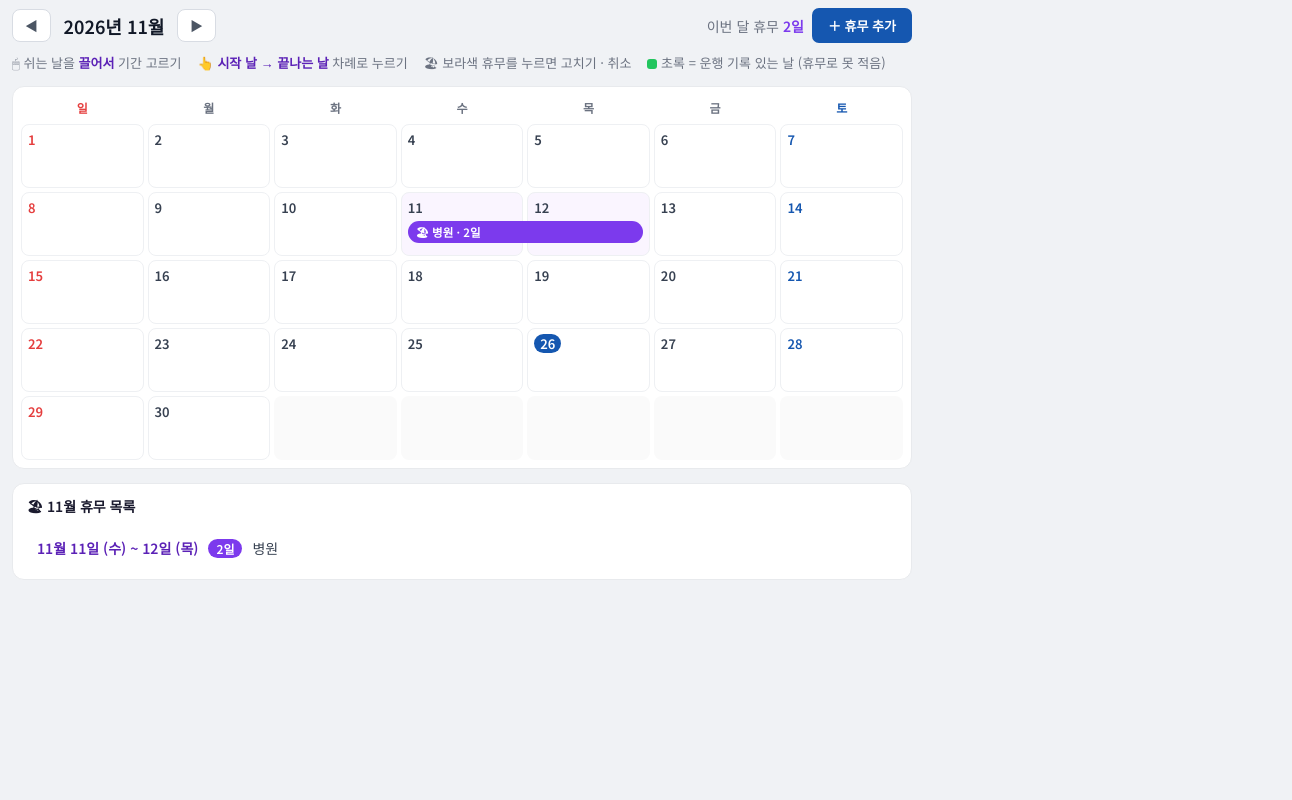
it: 휴무 띠를 누르면 기간 전체 고치기: 줄이면 빠진 날 지움, 취소는 기간 전체
The image size is (1292, 800).
Press Enter in the button "12", box [527,192,650,256]
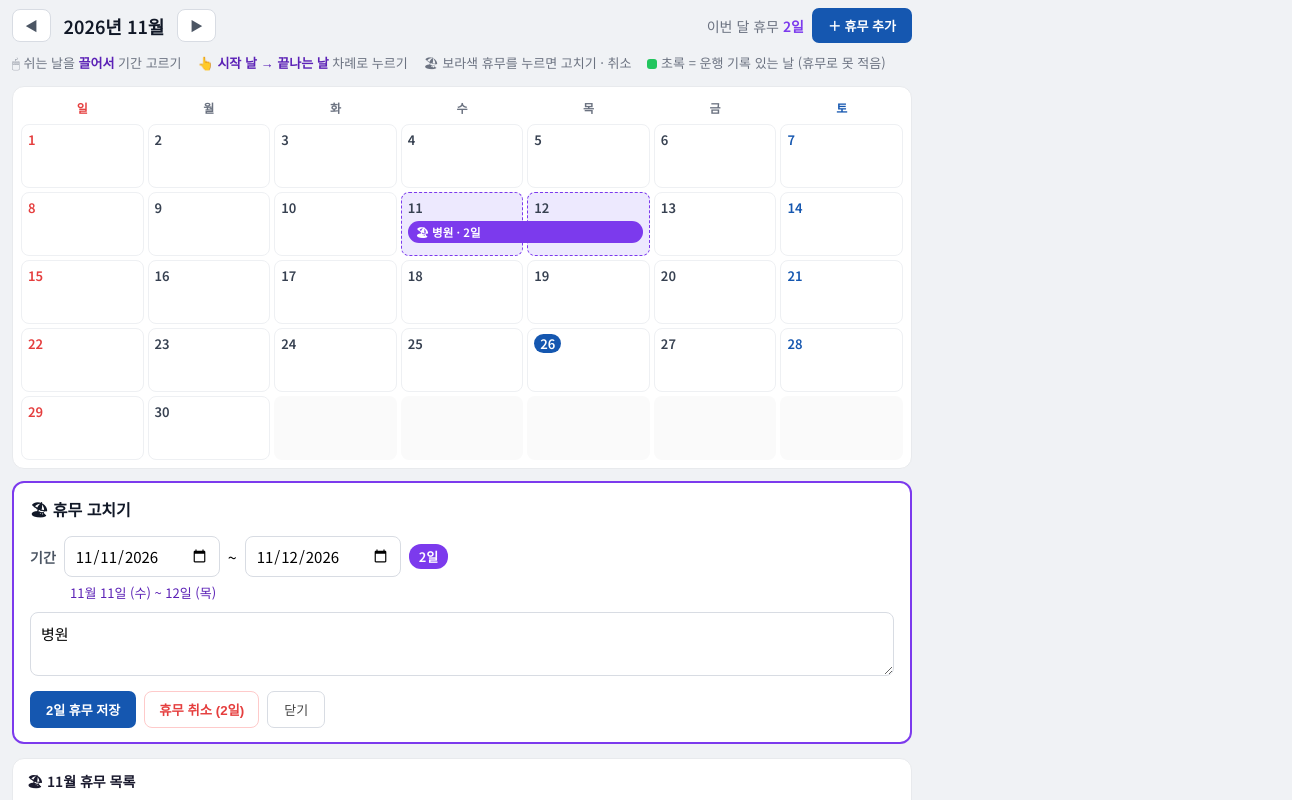
Expected: the text "🏖 휴무 고치기" is shown, [30,497,131,521]
Expected: the date field named "시작 날" holds "2026-11-11"
Type "2026-11-12" into the date field named "시작 날".
click(142, 556); type("2026-11-12")  # box [64,536,220,577]
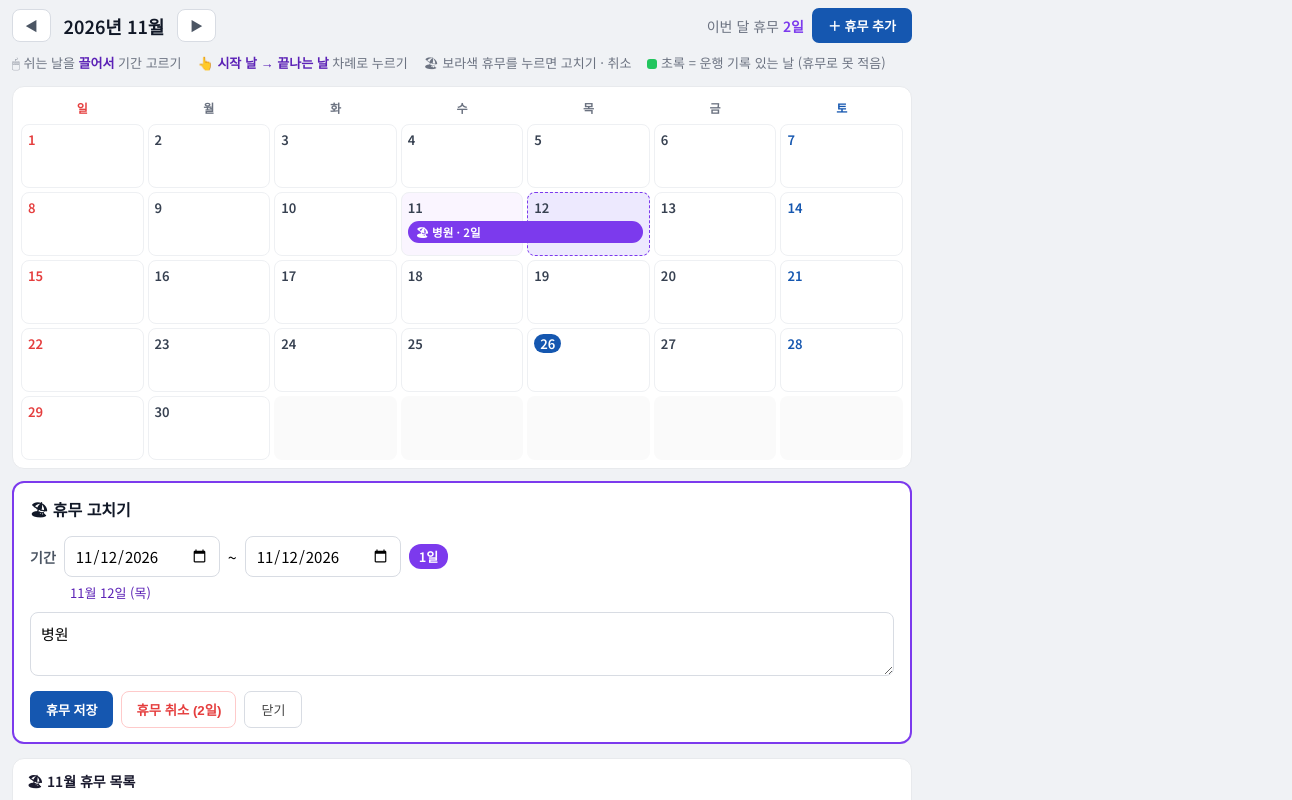
Click the button "휴무 저장".
click(72, 710)  # box [30,691,114,728]
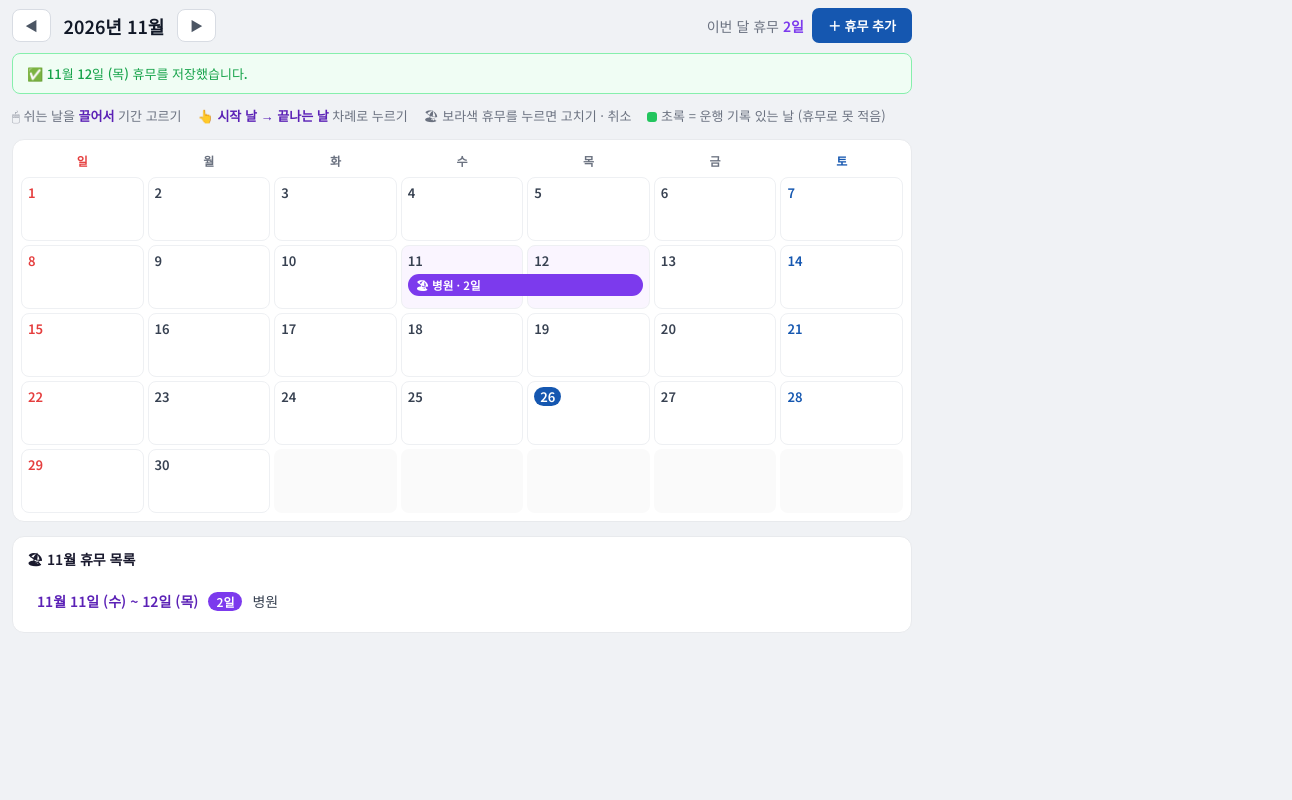
Expected: the text "✅ 11월 12일 (목) 휴무를 저장했습니다." is shown, [12,53,912,94]
Press Enter in the button "11 🏖 병원 · 2일", box [401,245,523,309]
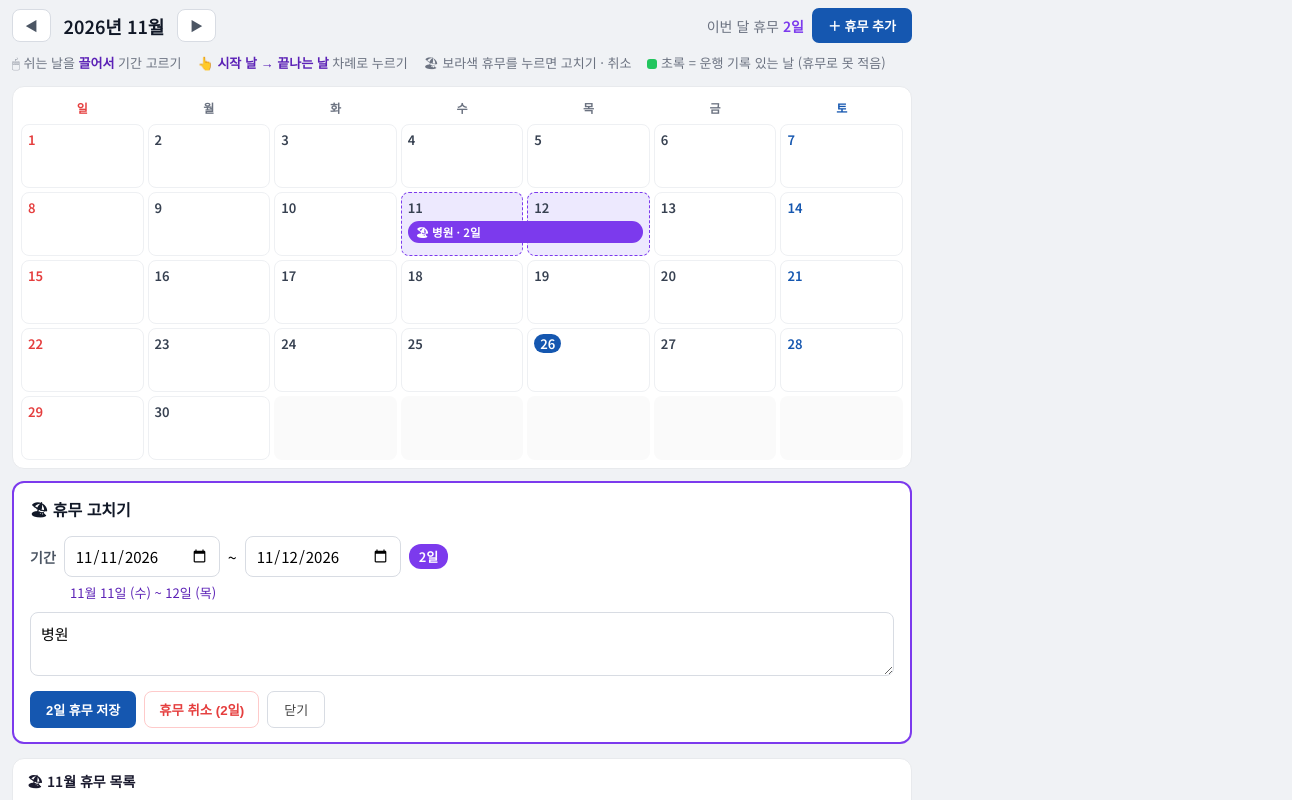
Click the button "휴무 취소 (2일)".
click(202, 710)  # box [144,691,259,728]
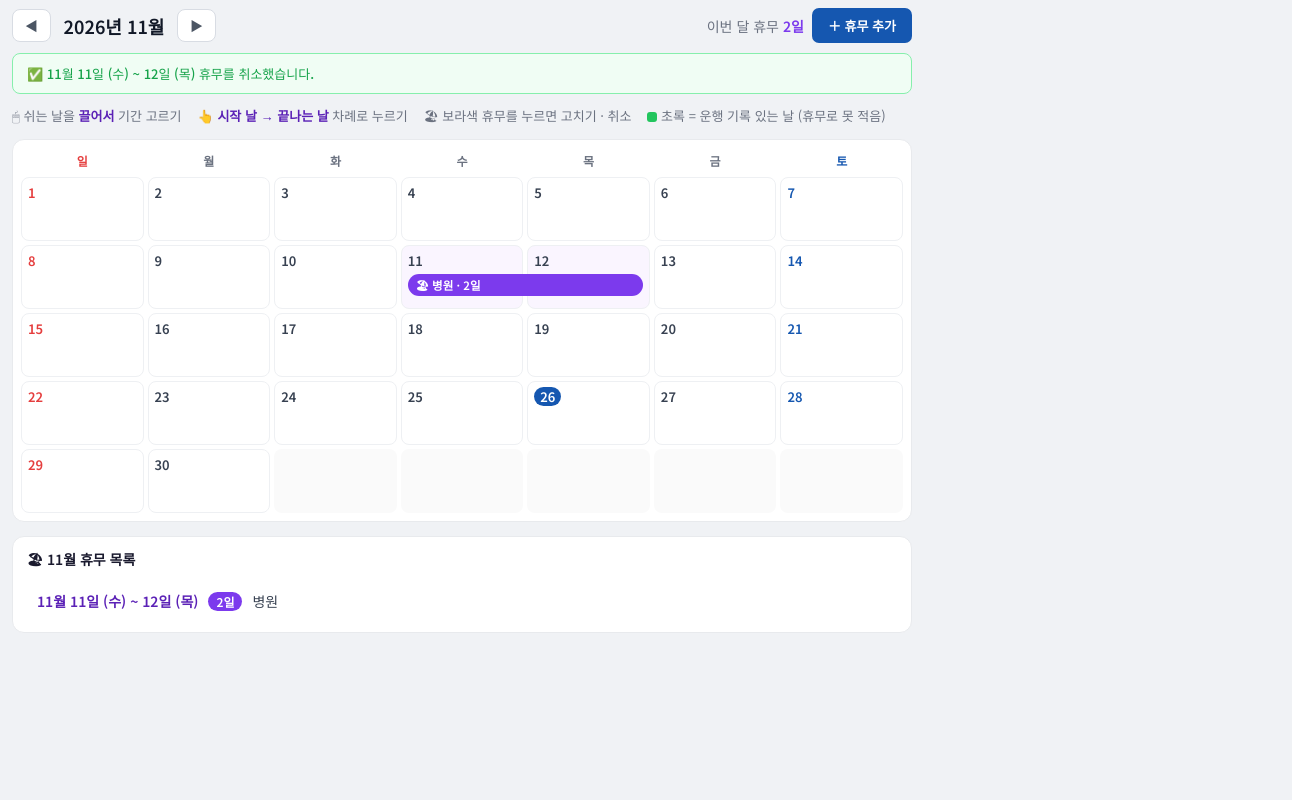
Expected: the text "✅ 11월 11일 (수) ~ 12일 (목) 휴무를 취소했습니다." is shown, [12,53,912,94]
